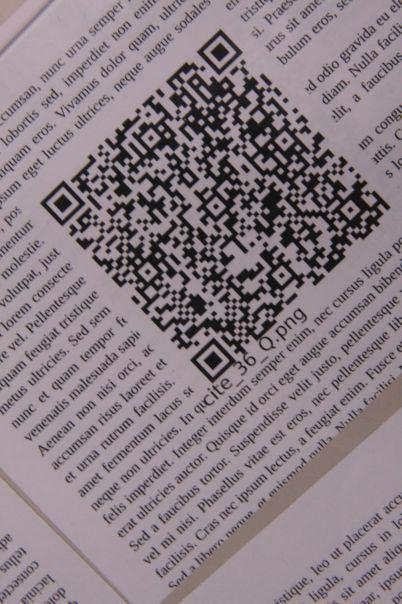Finder pattern: (189, 336, 240, 386), (39, 179, 87, 229), (200, 29, 244, 75)
